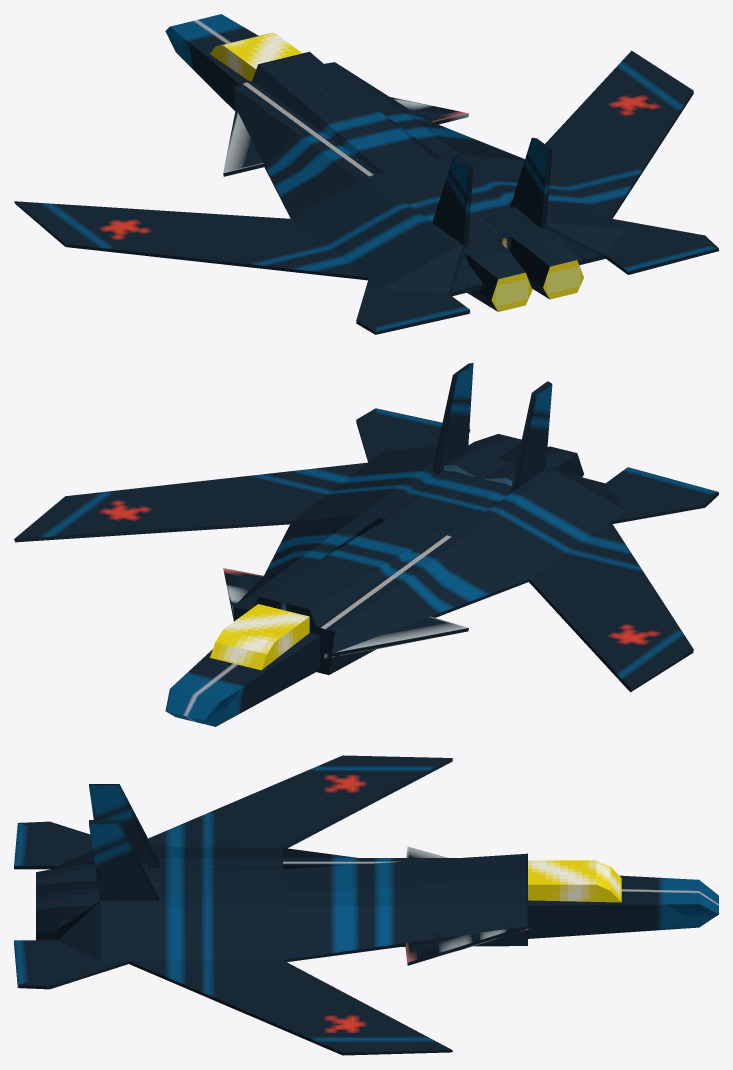
3 views of the same model, one above another, from view 1: azimuth 30°, elevation 25°; view 2: azimuth 150°, elevation 25°; view 3: azimuth 270°, elevation 25° (orthographic). The views are drawn at different scales.
Visible parts, largest first — view 1: cuboid; view 2: cuboid; view 3: cuboid.
Part boxes in pixels (bbox=[...]): cuboid: bbox=[14, 14, 718, 334]; cuboid: bbox=[14, 363, 718, 726]; cuboid: bbox=[14, 755, 718, 1055].
Bounding box in the file's own units: 610 × 117 × 611.
